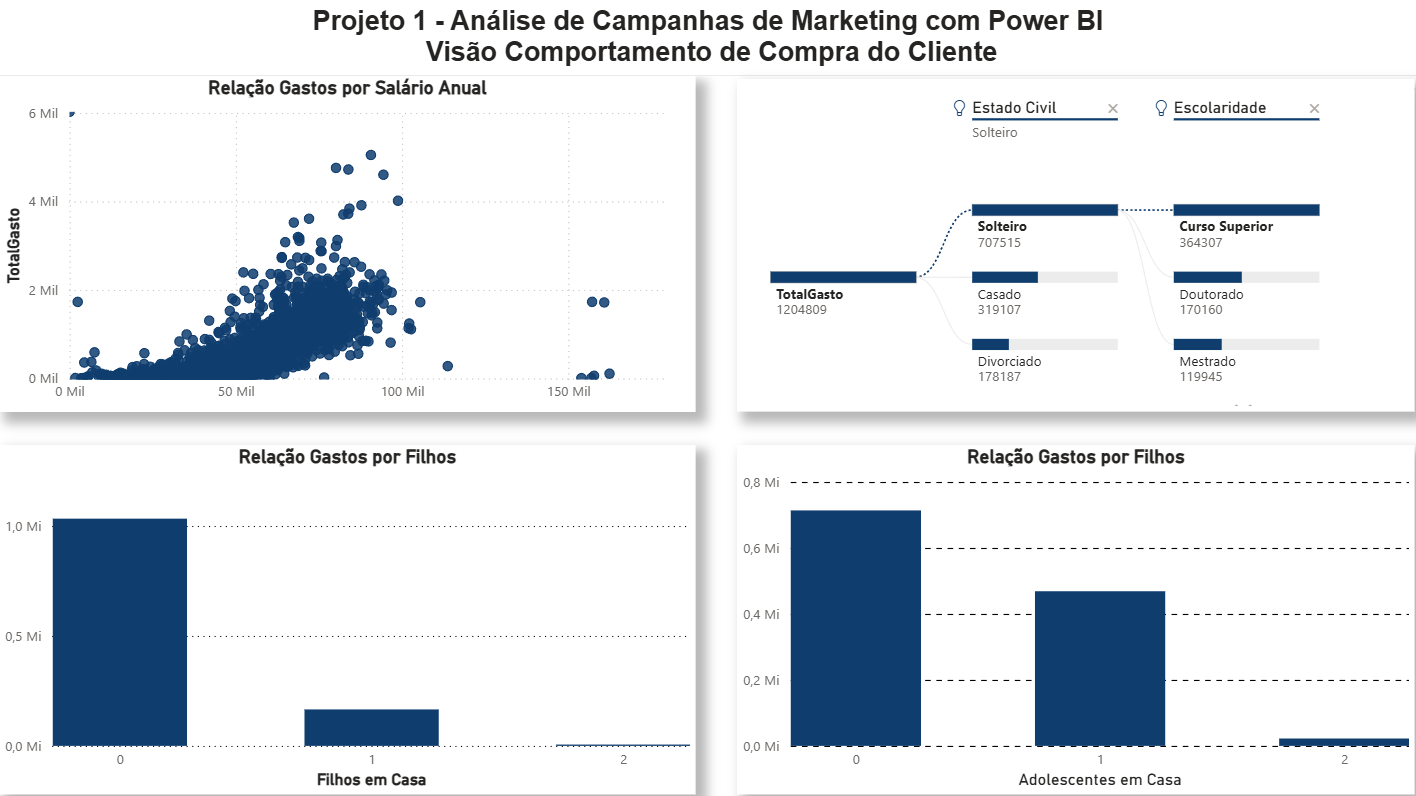

The page's visual inventory and layout, read from the dashboard file:
{"tool":"powerbi","page":{"name":"Visão Comportamento","canvas":[1280,720],"ordinal":1},"visuals":[{"type":"scatterChart","title":"Relação Gastos por Salário Anual","fields":{"X":["DadosMarketing.Salario Anual"],"Y":["DadosMarketing.TotalGasto"]},"box":[0,69,622.4,300],"z":0},{"type":"clusteredColumnChart","title":"Relação Gastos por Filhos","fields":{"Y":["DadosMarketing.TotalGasto"],"Category":["DadosMarketing.Filhos em Casa"]},"box":[0,398.5,622.4,311.6],"z":1000},{"type":"textbox","box":[0,0,1279.7,69],"z":2000},{"type":"clusteredColumnChart","title":"Relação Gastos por Filhos","fields":{"Y":["DadosMarketing.TotalGasto"],"Category":["DadosMarketing.Adolescentes em Casa"]},"box":[659.1,398.5,605.4,311.6],"z":3000},{"type":"decompositionTreeVisual","fields":{"Analyze":["DadosMarketing.TotalGasto"],"ExplainBy":["DadosMarketing.Estado Civil","DadosMarketing.Escolaridade"]},"box":[659.1,71.6,605.4,297.3],"z":4000}]}

Visuals, with their boxes in screenshot pixels (x1, y1, x2, y2), scaled from the page's 1280x720 canvas onto the 1416x796 screenshot:
"Relação Gastos por Salário Anual" scatterChart: bbox=(0, 76, 689, 408)
"Relação Gastos por Filhos" clusteredColumnChart: bbox=(0, 441, 689, 785)
textbox: bbox=(0, 0, 1415, 76)
"Relação Gastos por Filhos" clusteredColumnChart: bbox=(729, 441, 1399, 785)
decompositionTreeVisual - DadosMarketing.TotalGasto x DadosMarketing.Estado Civil: bbox=(729, 79, 1399, 408)
